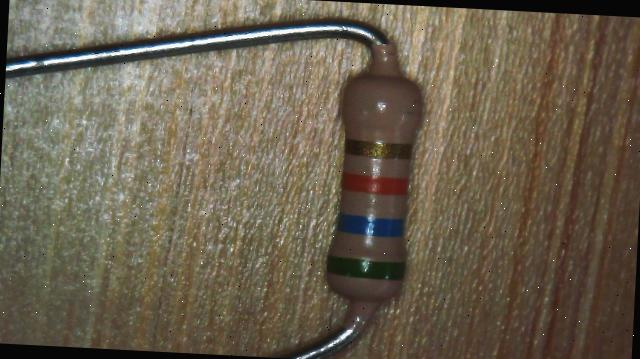blue: (336, 212, 406, 237)
gold: (343, 138, 415, 159)
green: (326, 255, 406, 280)
orange: (342, 172, 408, 194)
resistor: (310, 45, 454, 347)
